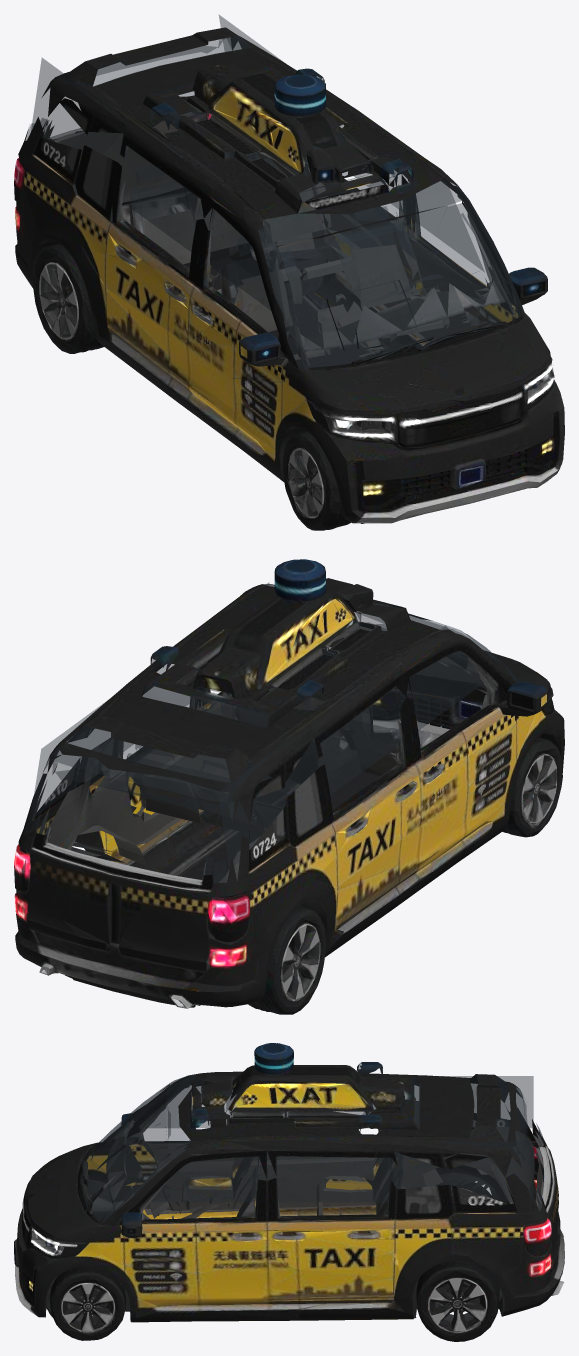
The model's file is taxi-van-low.glb.
3 renders of one model, top to bottom at view 1: azimuth 30°, elevation 25°; view 2: azimuth 150°, elevation 25°; view 3: azimuth 270°, elevation 25°, orthographic. The views are drawn at different scales.
Parts seen in each view (by area): view 1: body, axle_rear, axle_front; view 2: body, axle_rear, axle_front; view 3: body, axle_rear, axle_front.
Part boxes in pixels (x1,y1,x2,y2): body: (14,15,564,523); axle_rear: (33,227,312,353); axle_front: (282,431,350,530); body: (14,559,564,1008); axle_rear: (94,856,326,1014); axle_front: (339,714,562,837); body: (14,1043,564,1322); axle_rear: (416,1180,499,1341); axle_front: (48,1266,125,1340).
Bounding box in the file's own units: 2.12 × 2.21 × 4.4.
Materials: 2 (1 with a texture image).
